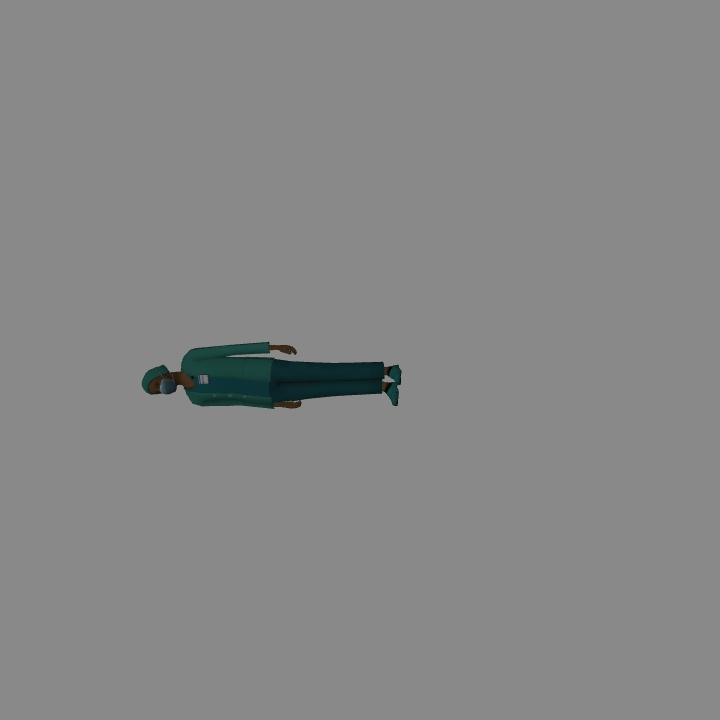victim: (141, 344, 400, 411)
